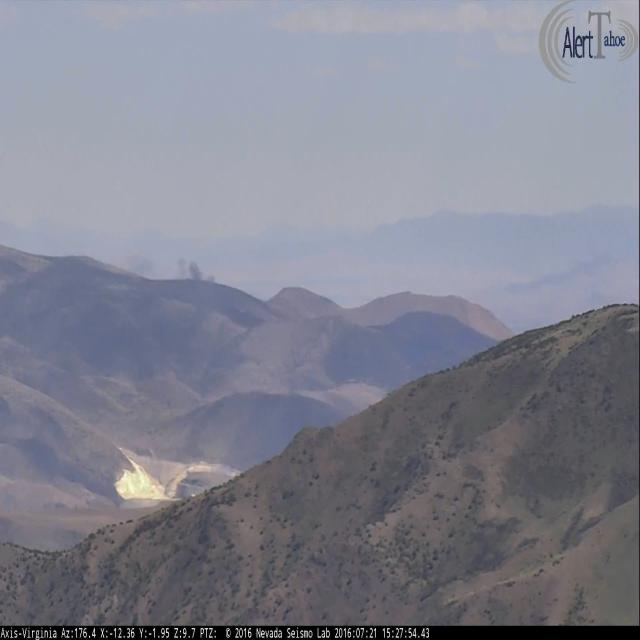smoke: (177, 260, 250, 314)
